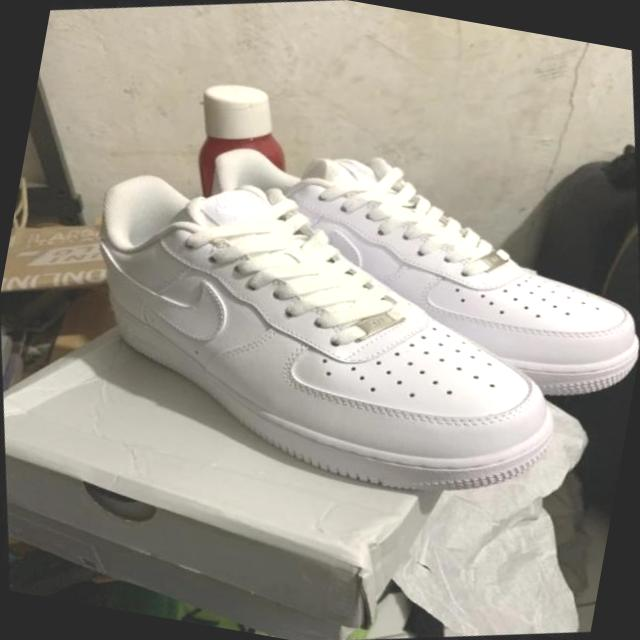nike_original_airforce: (44, 63, 640, 587), (168, 59, 640, 477)
